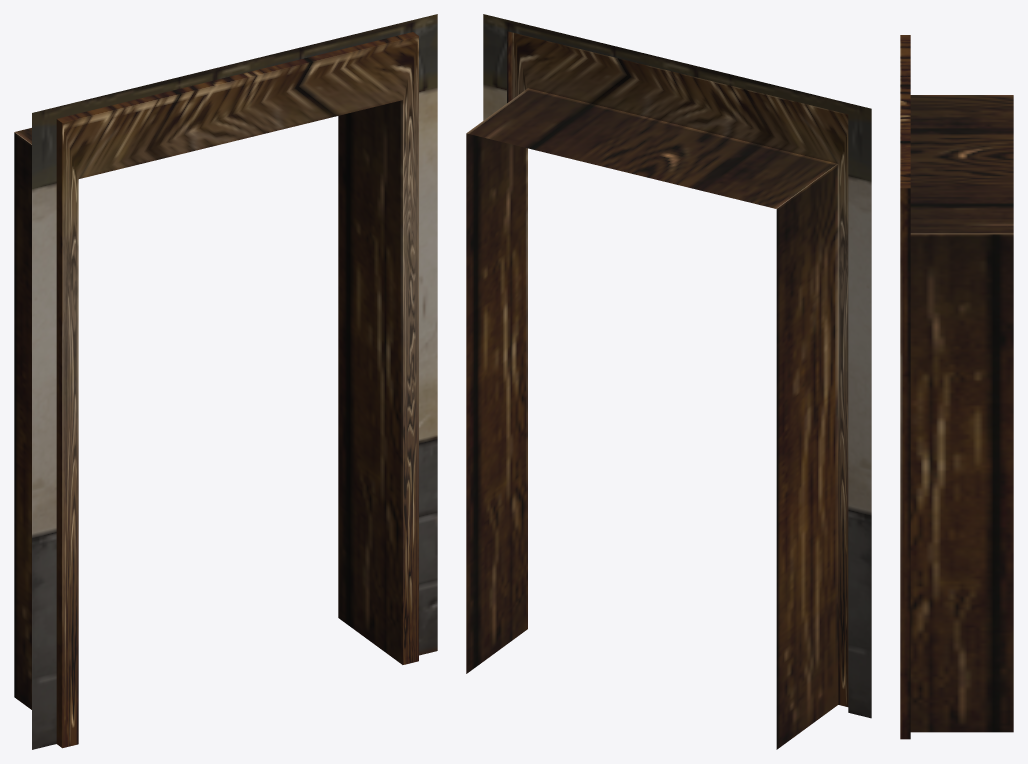
The model's file is wall_door.FBX.
3 renders of one model, left to right at view 1: azimuth 30°, elevation 25°; view 2: azimuth 150°, elevation 25°; view 3: azimuth 270°, elevation 25°, orthographic. The views are drawn at different scales.
Parts seen in each view (by area): view 1: wall_door; view 2: wall_door; view 3: wall_door.
Boxes of the visible parts, x1,y1,x2,y2 form: wall_door: [14, 14, 437, 749]; wall_door: [466, 14, 871, 749]; wall_door: [900, 35, 1013, 739].
Bounding box in the file's own units: 180 × 270 × 49.5.
